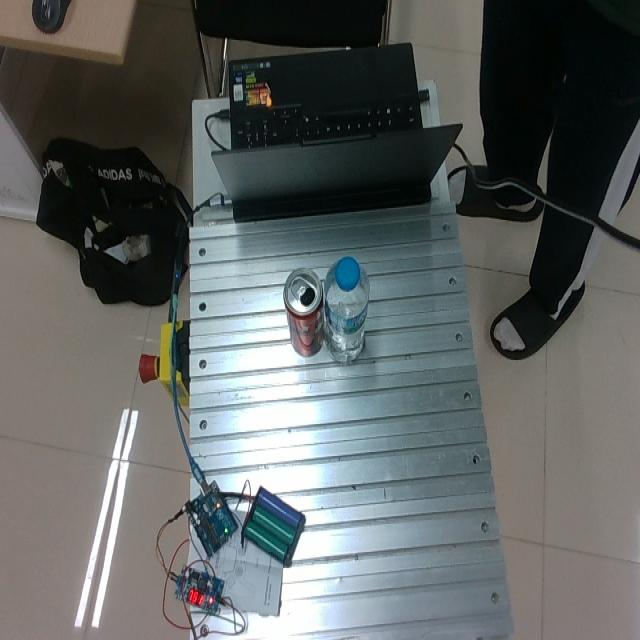coca: (283, 267, 326, 357)
lavie: (322, 255, 369, 362)
